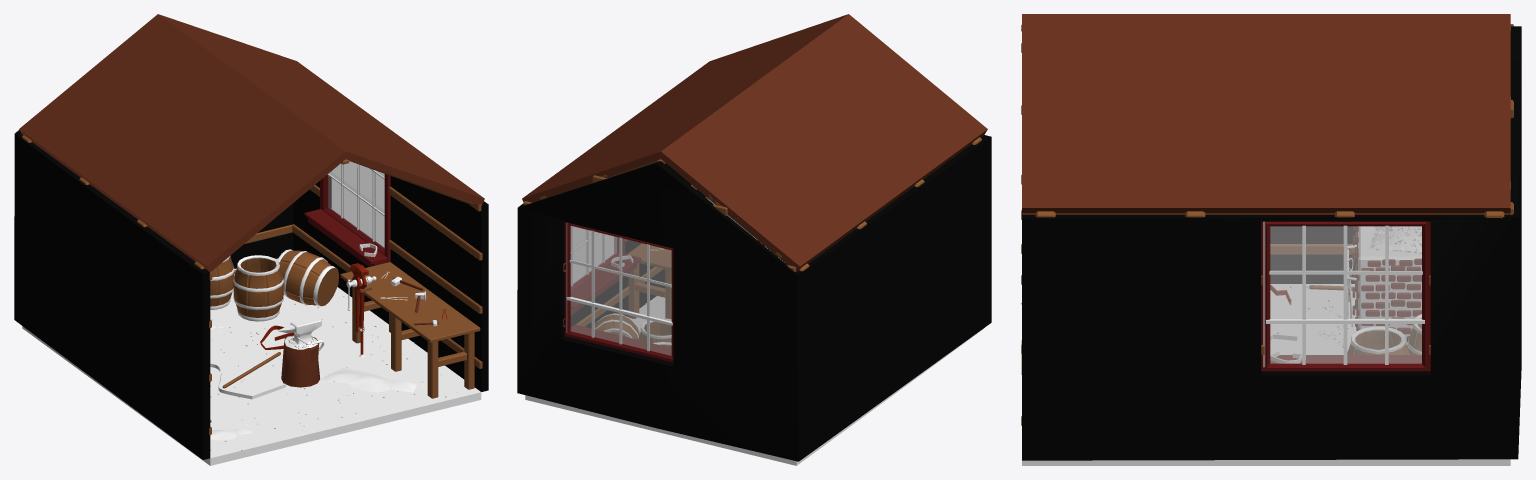
The model's file is forge.fbx.
3 renders of one model, left to right at view 1: azimuth 30°, elevation 25°; view 2: azimuth 150°, elevation 25°; view 3: azimuth 270°, elevation 25°, orthographic. The views are drawn at different scales.
Visible parts, largest first — view 1: blacksmith; view 2: blacksmith; view 3: blacksmith.
Part boxes in pixels (bbox=[...]): blacksmith: bbox=[14, 14, 488, 465]; blacksmith: bbox=[517, 14, 991, 465]; blacksmith: bbox=[1020, 14, 1521, 465].
Bounding box in the file's own units: 207 × 195 × 242.
